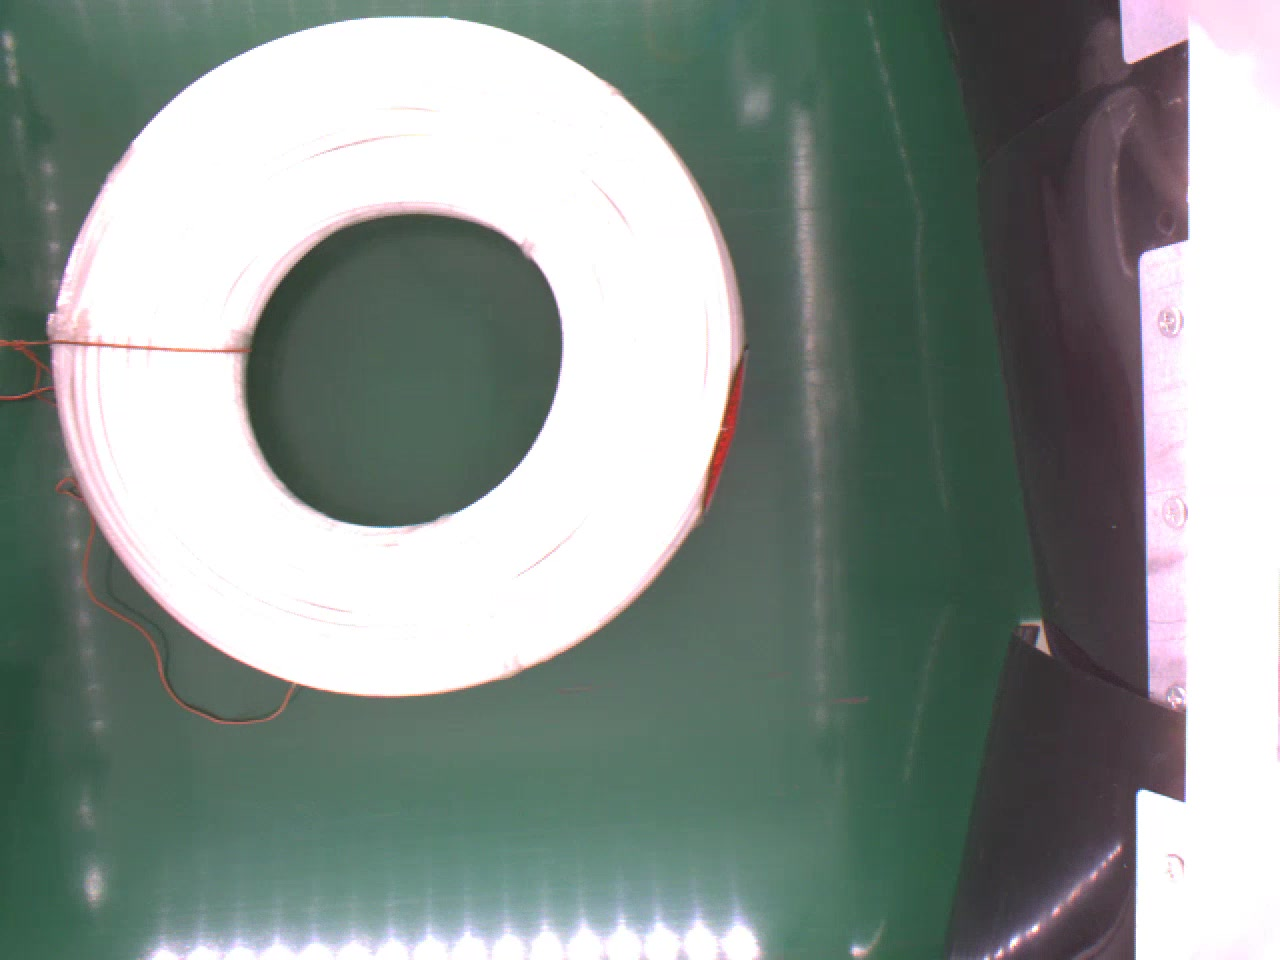white: (43, 14, 754, 700)
